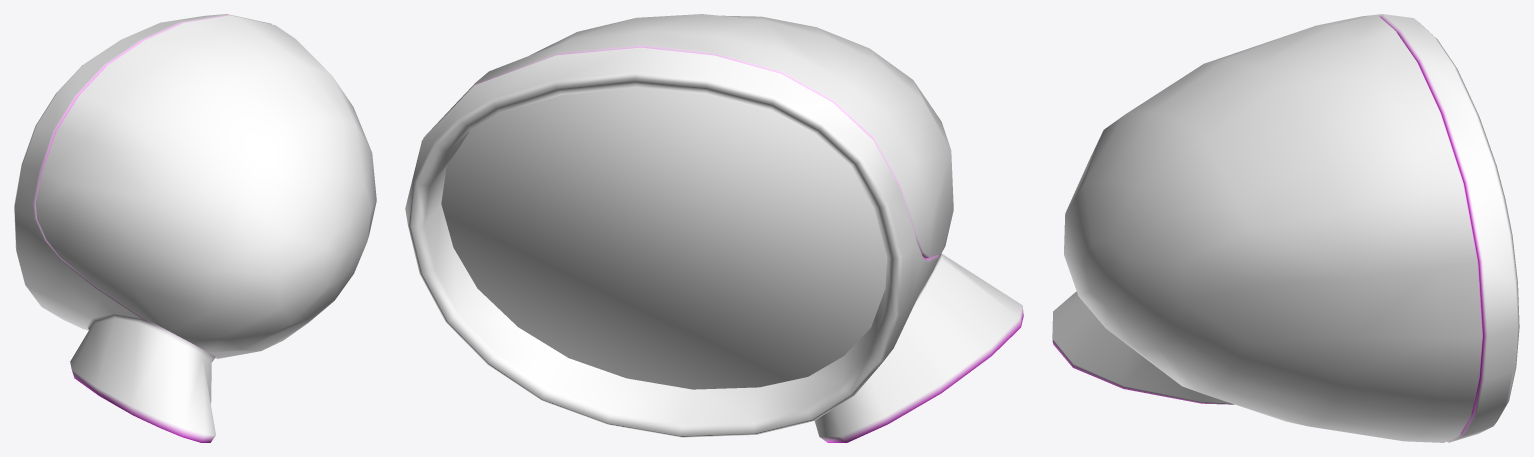
The model's file is Car_Mini_CountrymanJCW_2017_MirrorL_SetC.fbx.
3 views of the same model, side by side, from view 1: azimuth 30°, elevation 25°; view 2: azimuth 150°, elevation 25°; view 3: azimuth 270°, elevation 25° (orthographic). The views are drawn at different scales.
Visible parts, largest first — view 1: MirrorL 6; view 2: MirrorL 6; view 3: MirrorL 6.
Part boxes in pixels (left/top/right/bottom): MirrorL 6: left=14, top=14, right=376, bottom=442; MirrorL 6: left=405, top=14, right=1023, bottom=442; MirrorL 6: left=1052, top=14, right=1519, bottom=442.
Bounding box in the file's own units: 0.2024 × 0.1777 × 0.1887.
